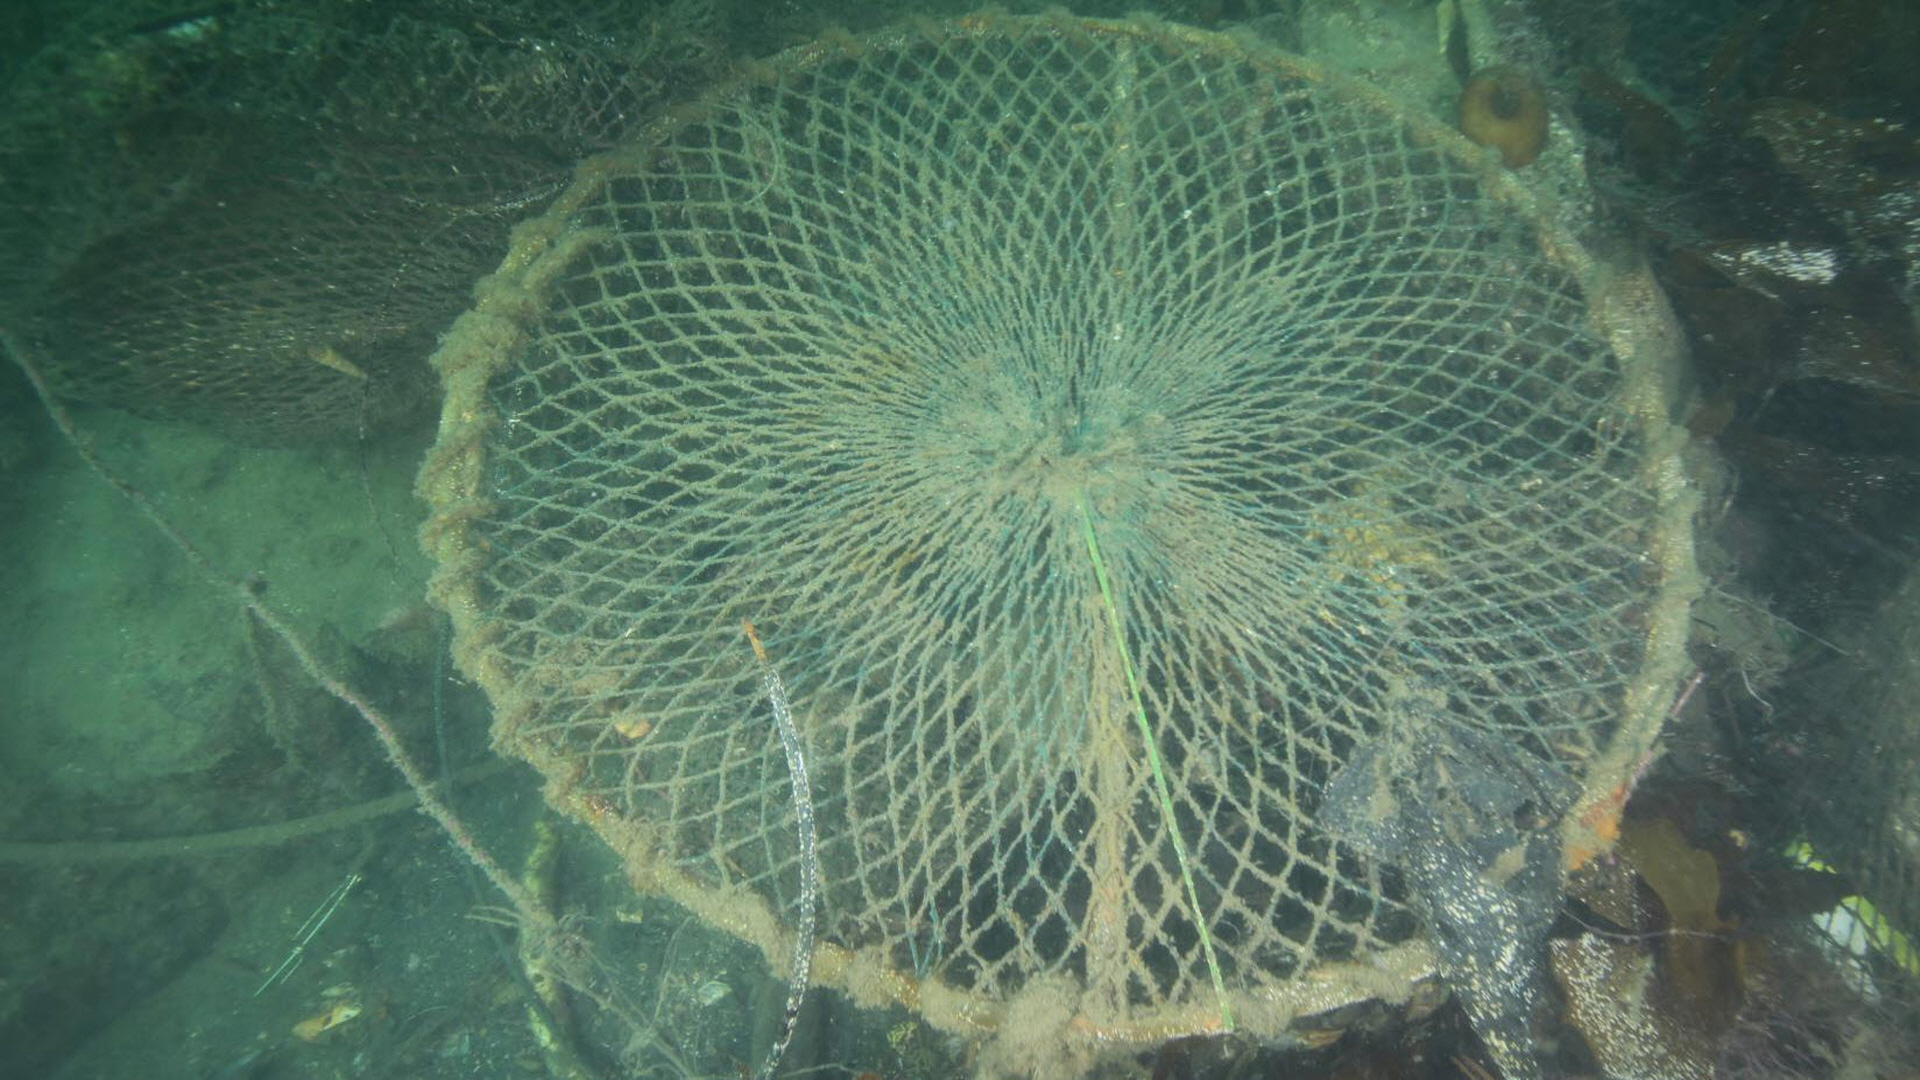circular fish trap: (419, 12, 1698, 1055)
fish net: (0, 0, 731, 436)
